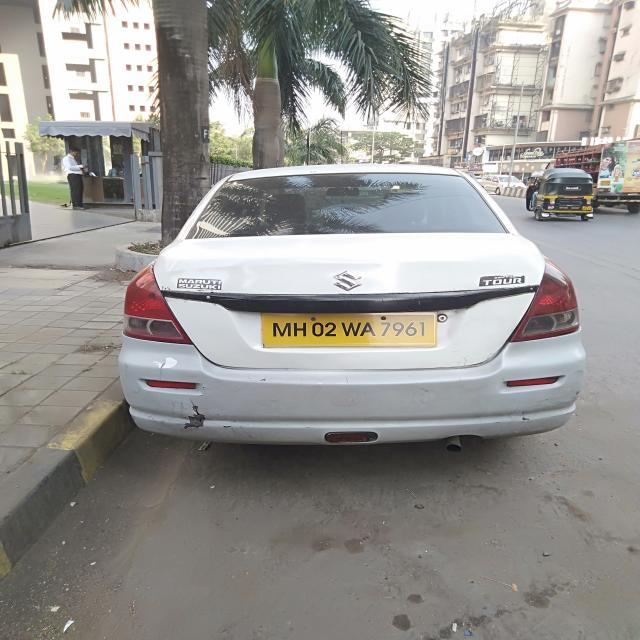Number-Plate: (265, 312, 434, 344)
